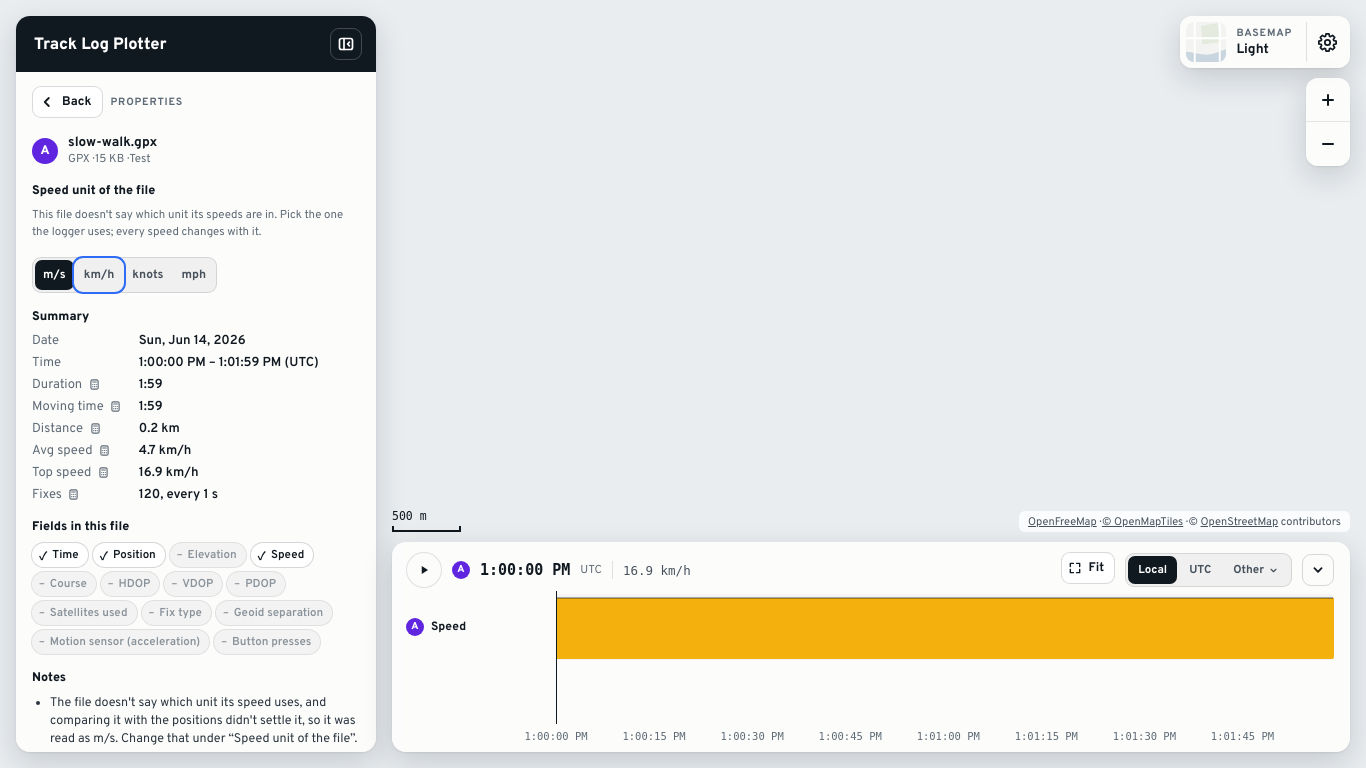
Test case: the speed unit of a file that doesn't say it › reads a walk's speeds again in the unit picked: its 16.9 km/h becomes 4.7 km/h, and the note says the unit was picked
The width and height of the screenshot is (1366, 768).
Later steps or results of the test are not shown.
Click the button "km/h" at (99, 275), box [76,260,122,290]
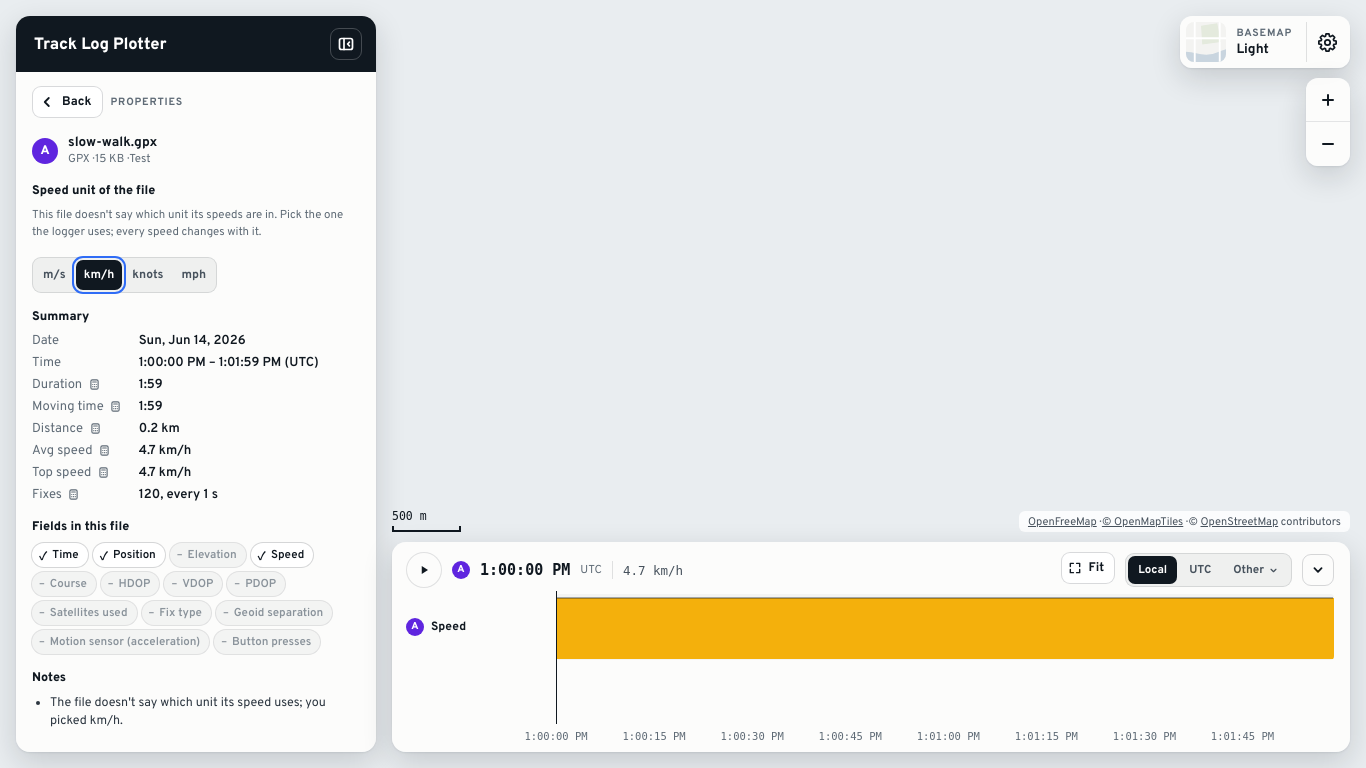
Expected: the text "4.7 km/h" next to "Avg speed" is shown, [139,443,191,459]
// In miles an hour, as the summary shows every speed.
Click the button "mph" at (194, 275), box [174,260,214,290]
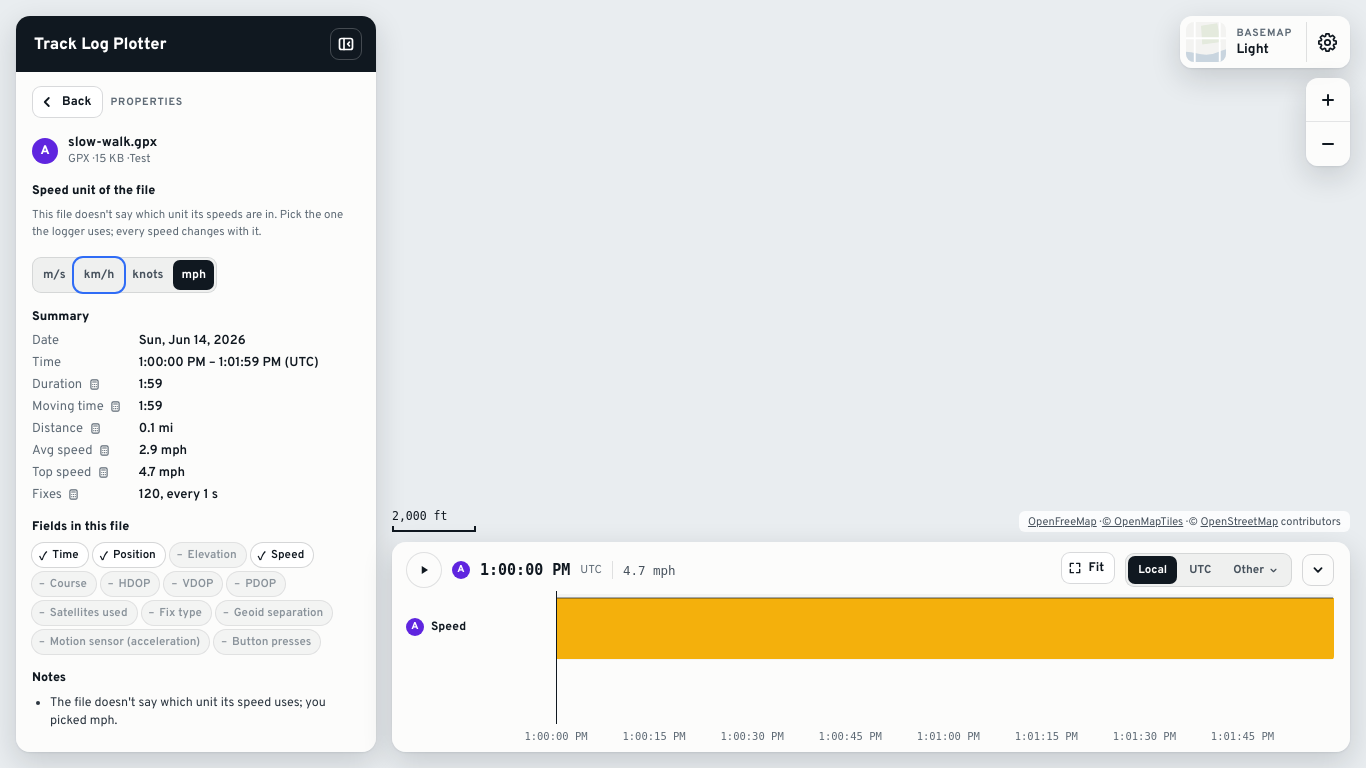
Result: the text "4.7 mph" next to "Top speed" is shown at [139,465,185,481]
